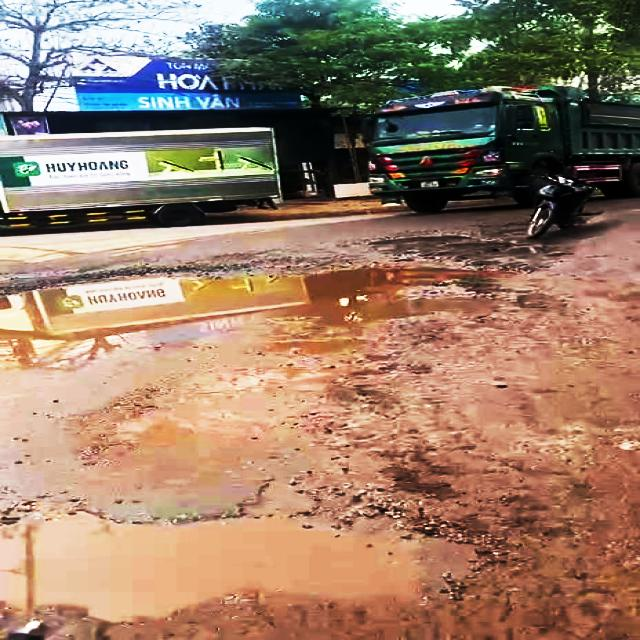pothole: (0, 247, 534, 384), (0, 489, 528, 624)
